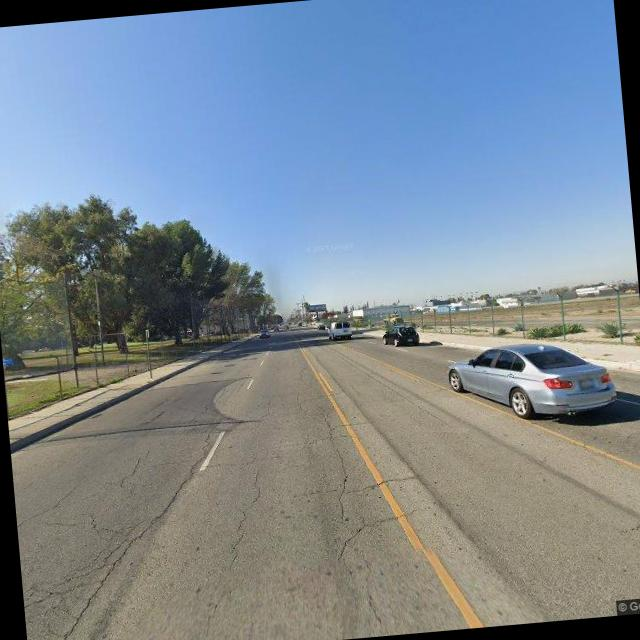pothole: (29, 421, 230, 640), (288, 364, 389, 562), (213, 446, 272, 580)
